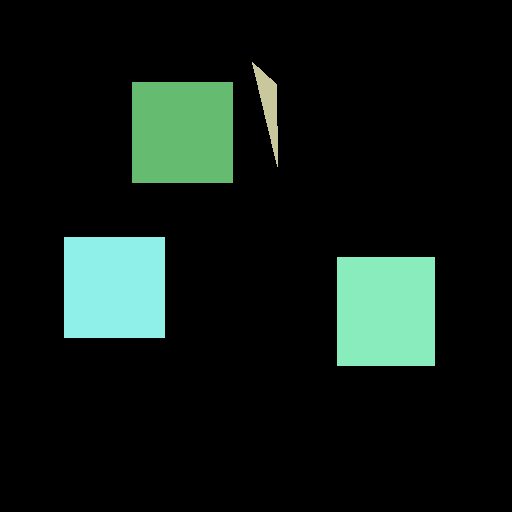rectangle: (337, 257, 434, 365)
square: (64, 237, 164, 337), (132, 82, 232, 182)
triangle: (252, 62, 277, 166)
